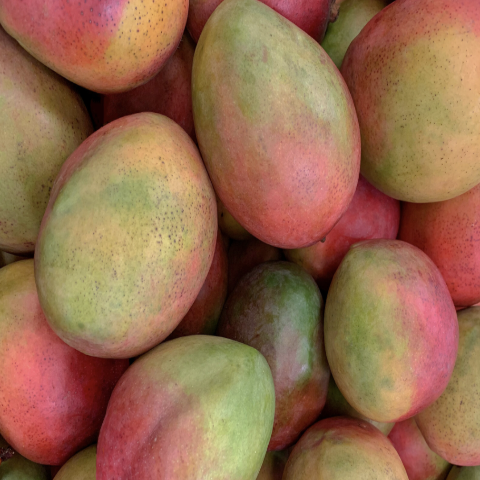mango: (156, 0, 400, 274), (22, 109, 224, 366), (98, 329, 294, 480), (317, 233, 457, 414)
